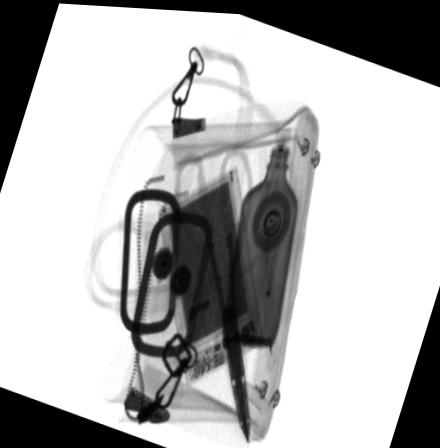Powerbank: (157, 162, 265, 386)
Scissors: (172, 139, 252, 444)
